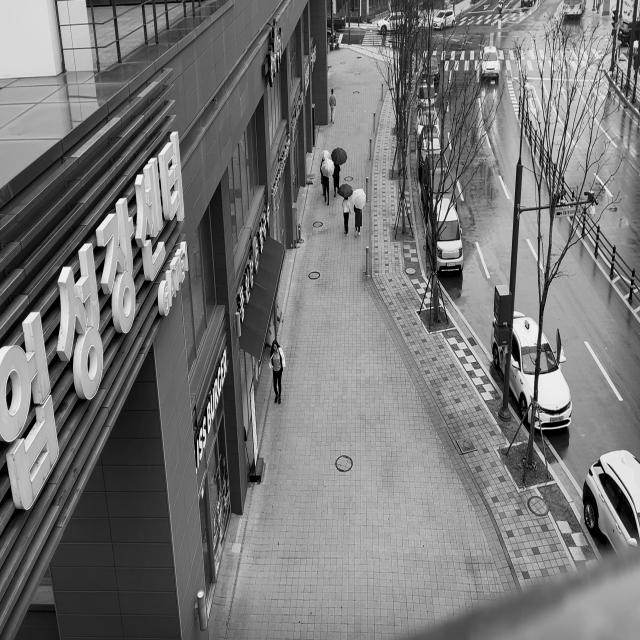Bus: (555, 0, 588, 20)
Car: (485, 298, 583, 446), (579, 432, 640, 570), (420, 204, 468, 294), (418, 159, 461, 211), (373, 0, 418, 38), (413, 126, 448, 170), (476, 37, 505, 86), (406, 103, 442, 138), (411, 72, 439, 114), (430, 0, 464, 33), (613, 12, 640, 41), (422, 49, 447, 80), (322, 10, 352, 31)
Motorcycle: (493, 0, 506, 16)
